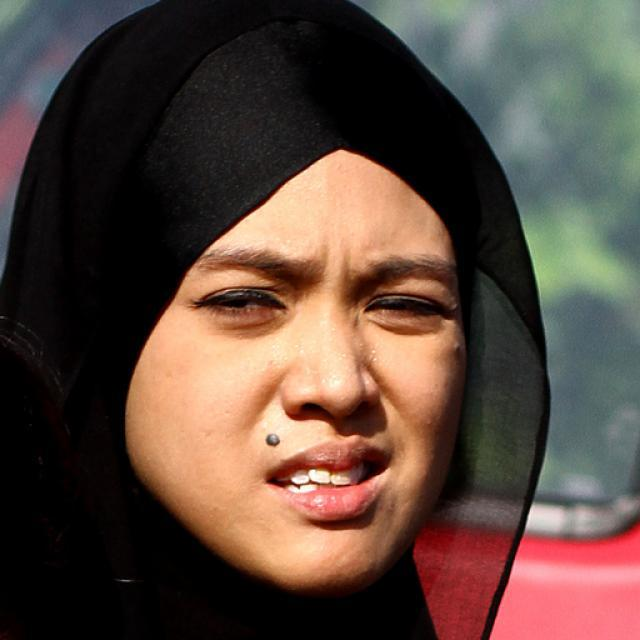disgust: (127, 143, 464, 592)
